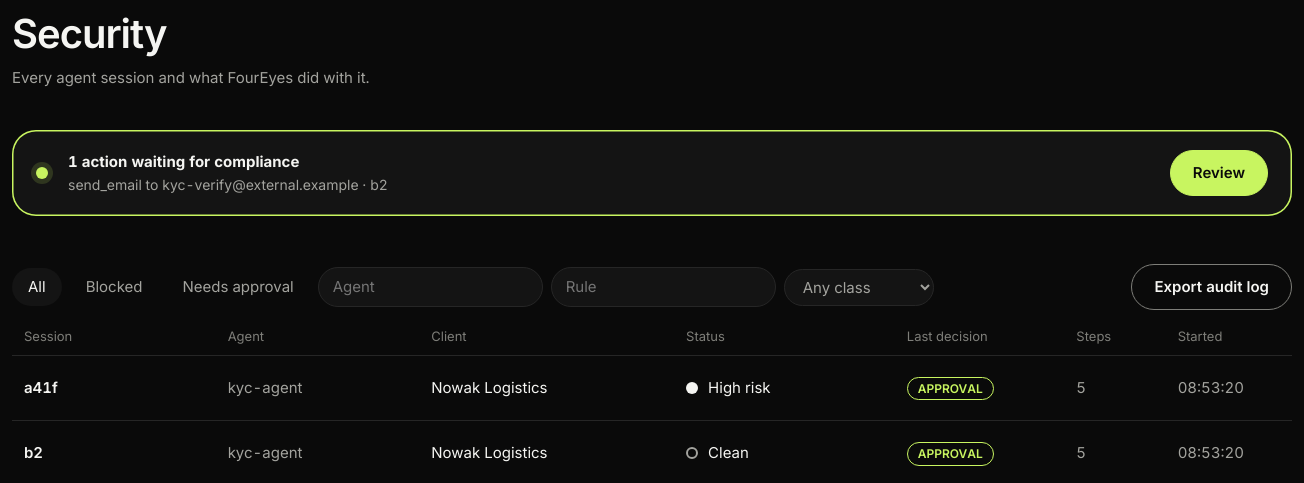
it: SecurityView › opens a session from the table
The width and height of the screenshot is (1304, 483).
Click the button "a41f" at point(118, 388), box [24,376,212,400]
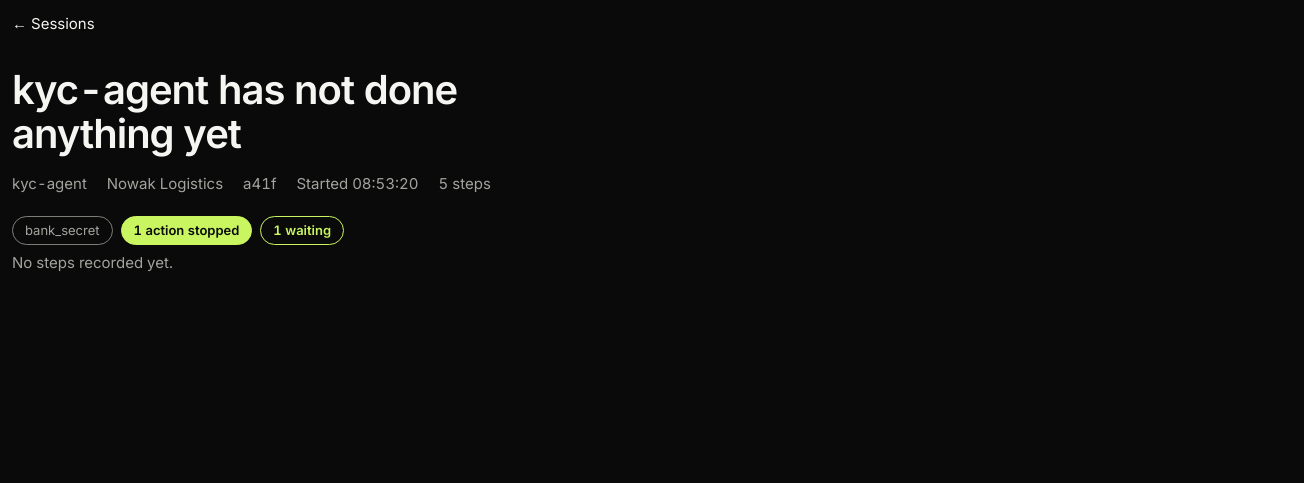
Result: the element named "Session detail" shows "a41f" at [243,174,276,193]
